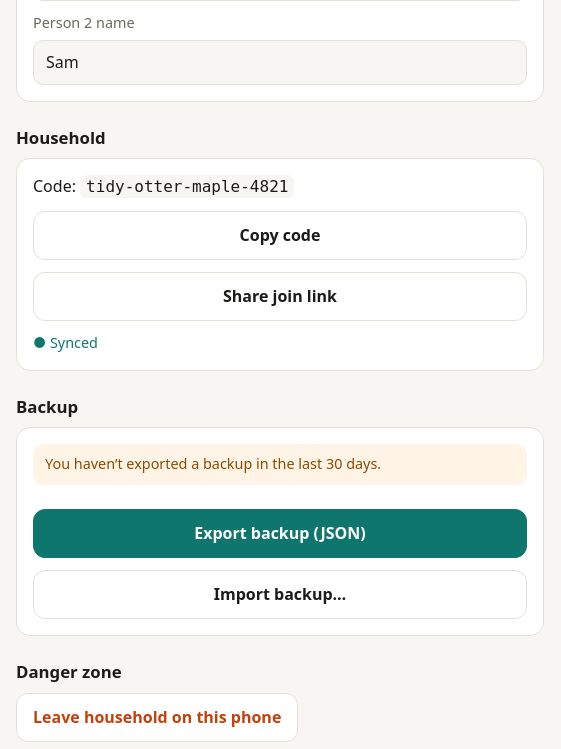
Scenario: a successful export share records lastExportAt
This screenshot has width=561, height=749.
(page scrolled)
Click the button "Export backup (JSON)" at (280, 534), box [33,509,527,558]
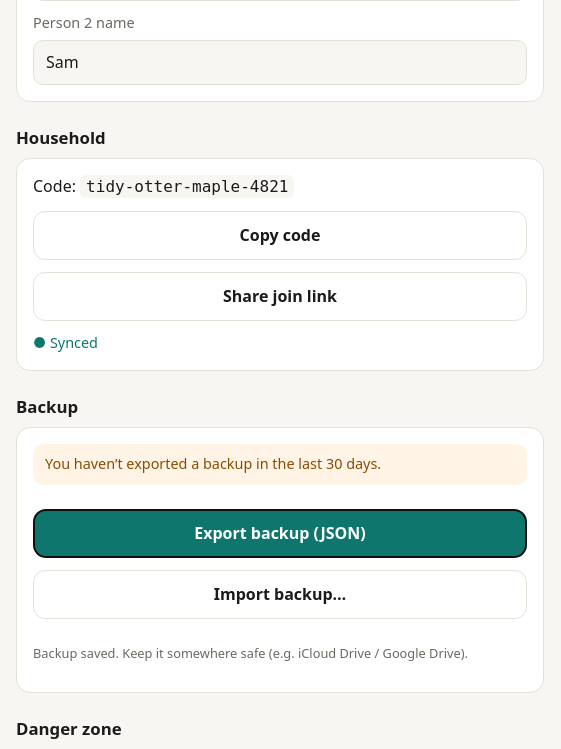
Now the text "Backup saved. Keep it somewhere safe (e.g. iCloud Drive / Google Drive)." is shown, box [33,644,527,663]
